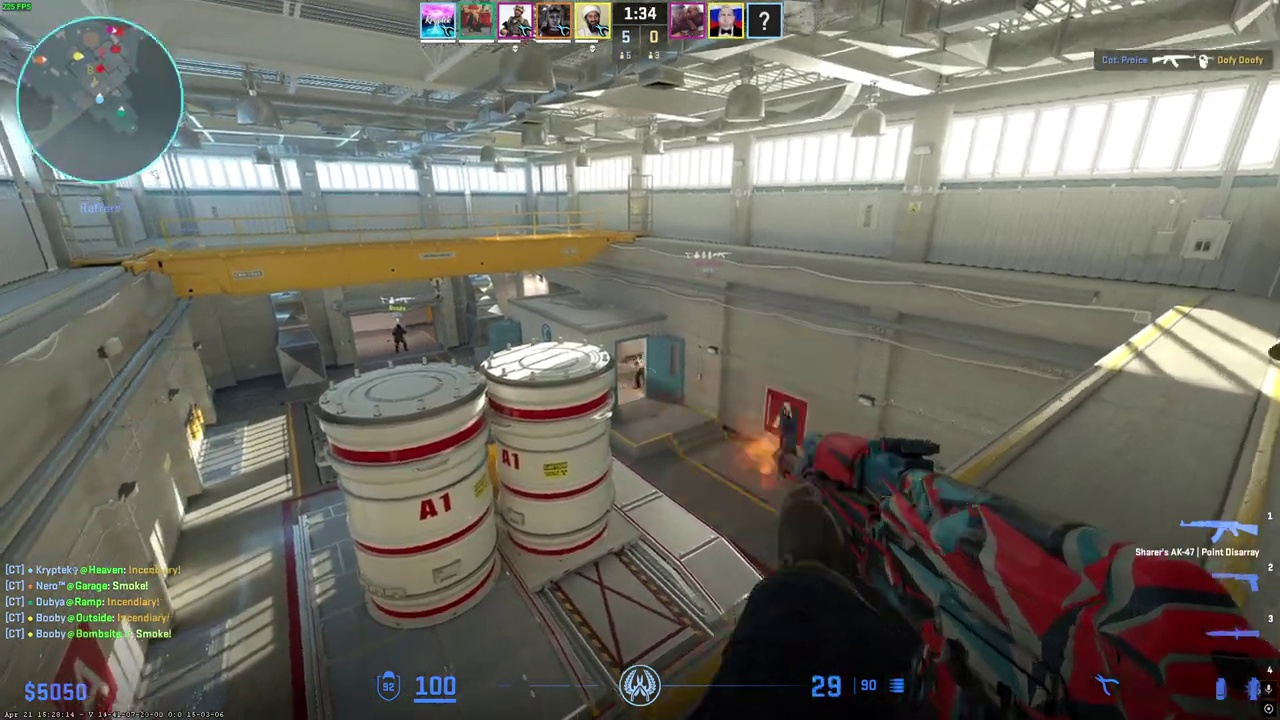CT: (393, 324, 407, 353)
Terrorist: (633, 354, 645, 389)
